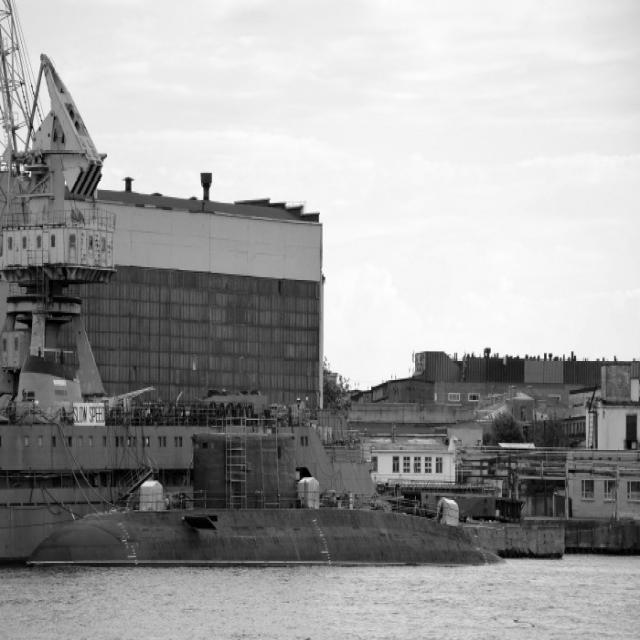submarine: (27, 431, 508, 565)
